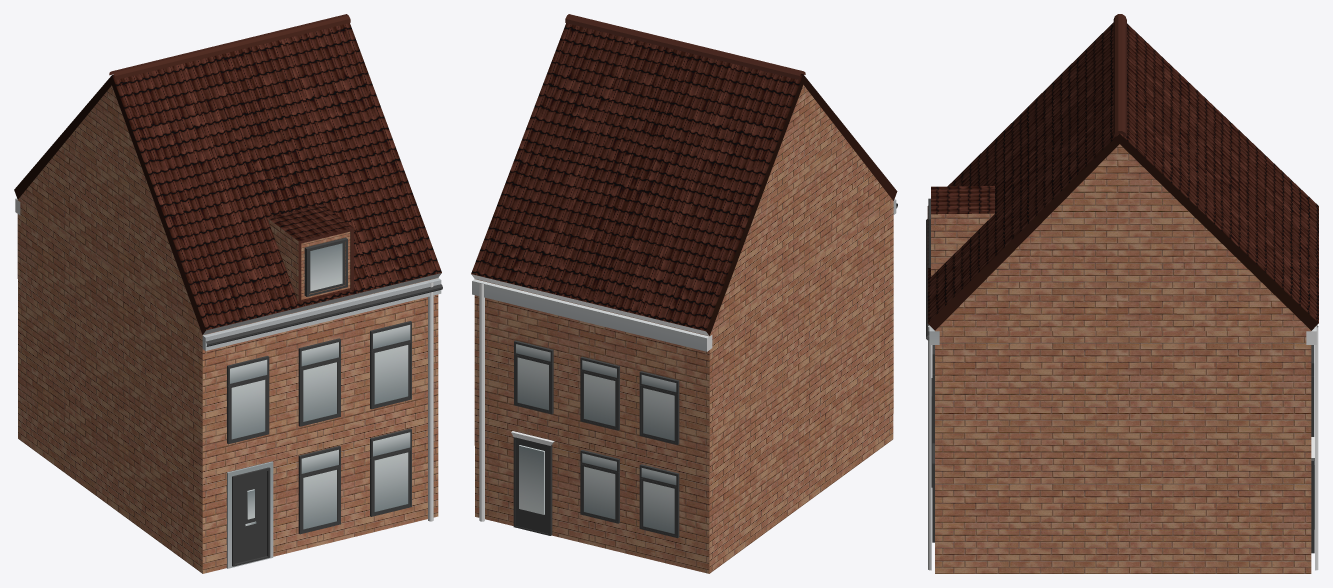
The model's file is It_Tek_22.fbx.
3 renders of one model, left to right at view 1: azimuth 30°, elevation 25°; view 2: azimuth 150°, elevation 25°; view 3: azimuth 270°, elevation 25°, orthographic. The views are drawn at different scales.
Parts seen in each view (by area): view 1: It_Tek_22; view 2: It_Tek_22; view 3: It_Tek_22.
Part boxes in pixels (<box>): It_Tek_22: <box>14,14,442,573</box>; It_Tek_22: <box>471,14,897,573</box>; It_Tek_22: <box>926,14,1318,573</box>.
Bounding box in the file's own units: 662 × 1167 × 937.
